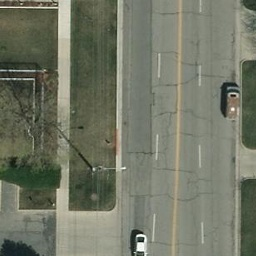car: (226, 84, 242, 120), (132, 232, 148, 256)
